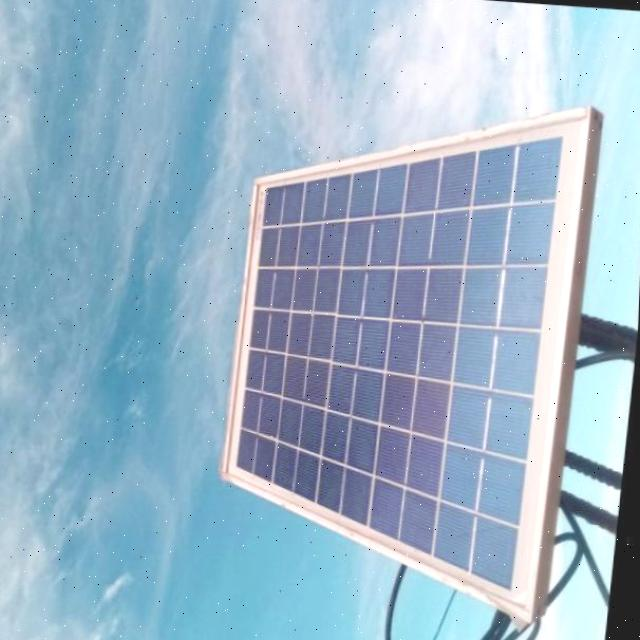Normal Solar Panel: (213, 88, 590, 616)
